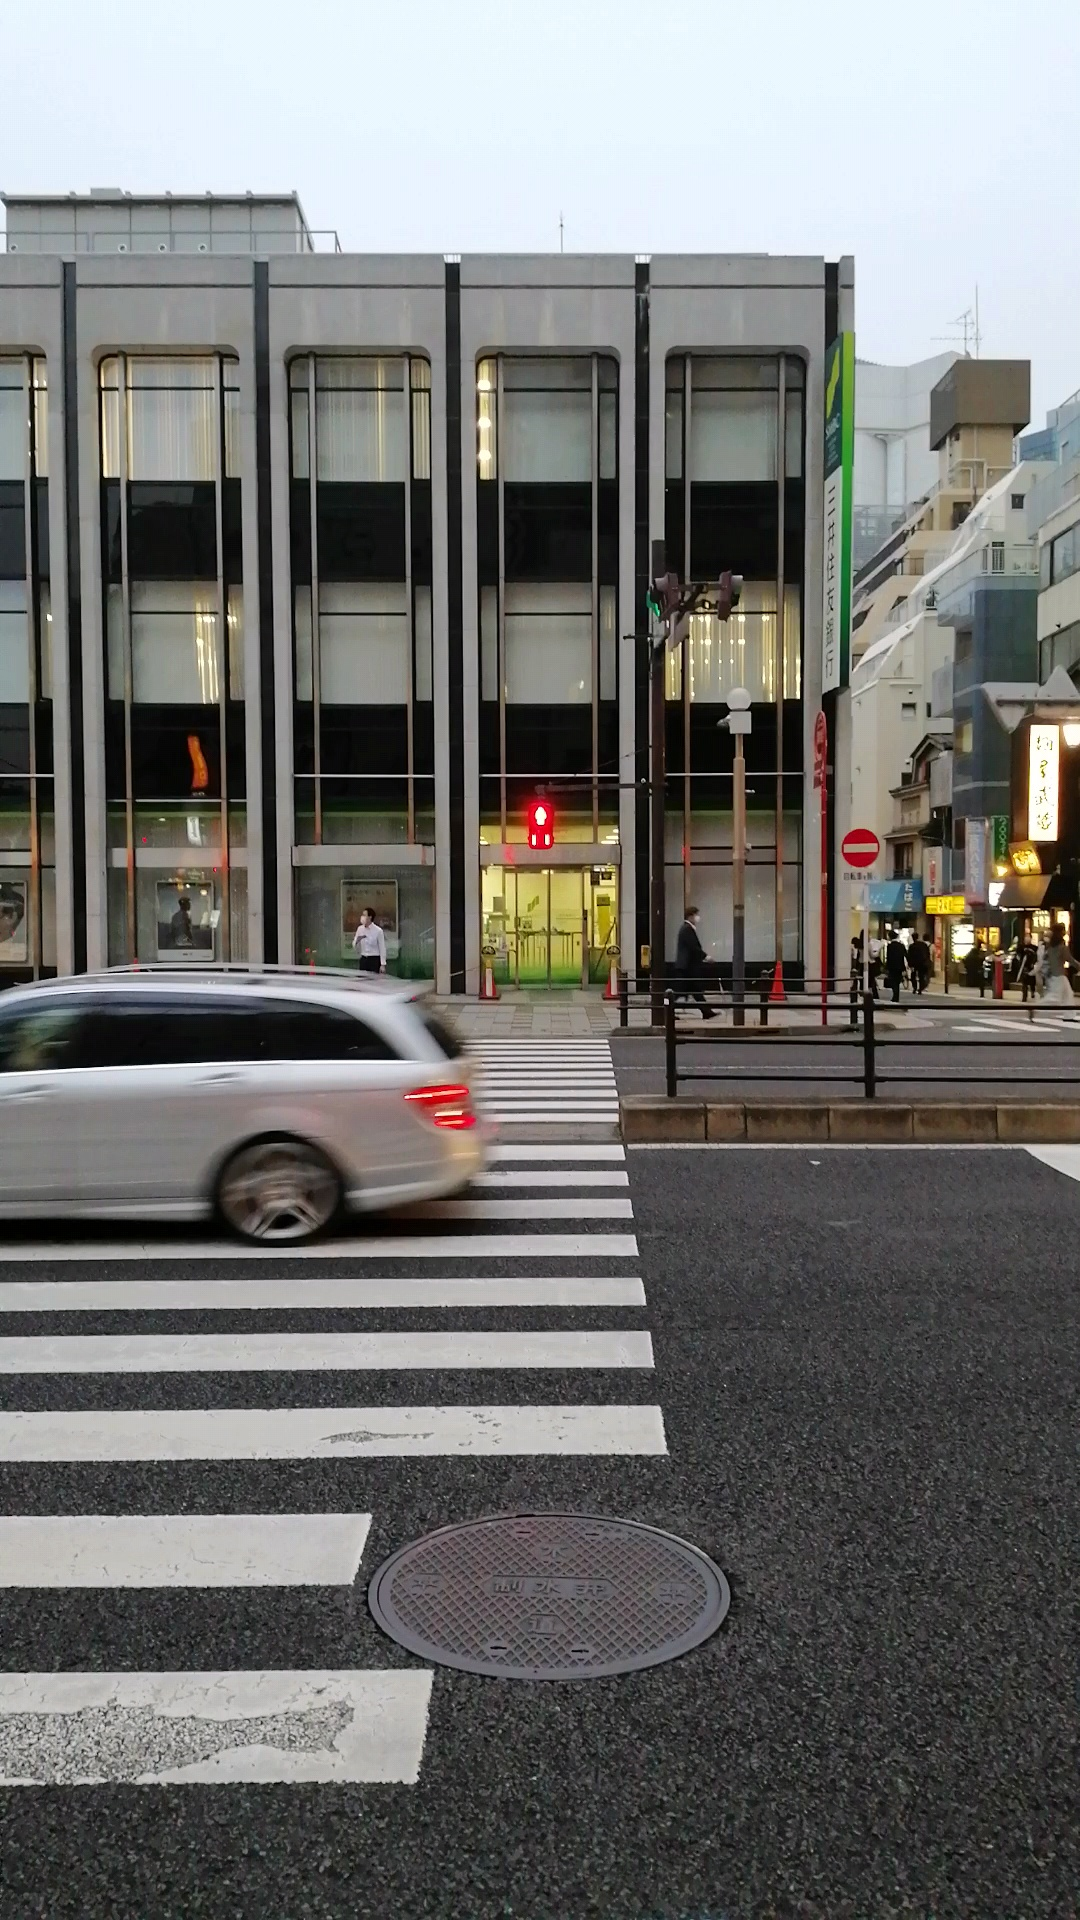red: (527, 800, 554, 849)
